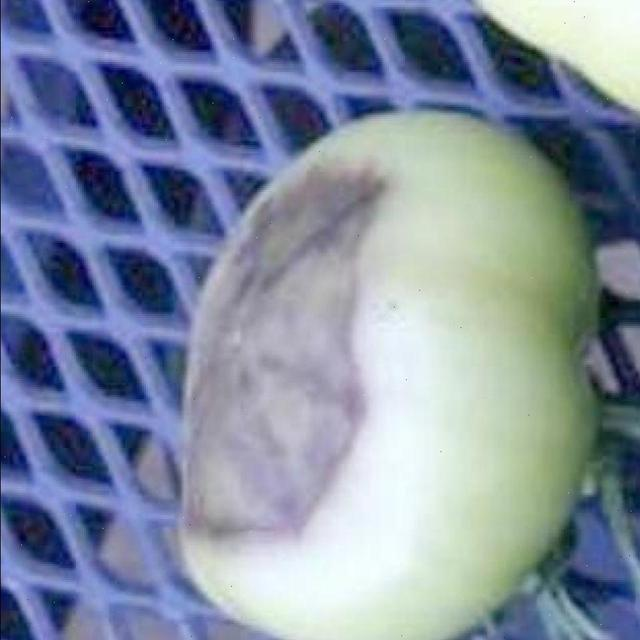Blossom End Rot Fruit: (120, 110, 256, 364)
